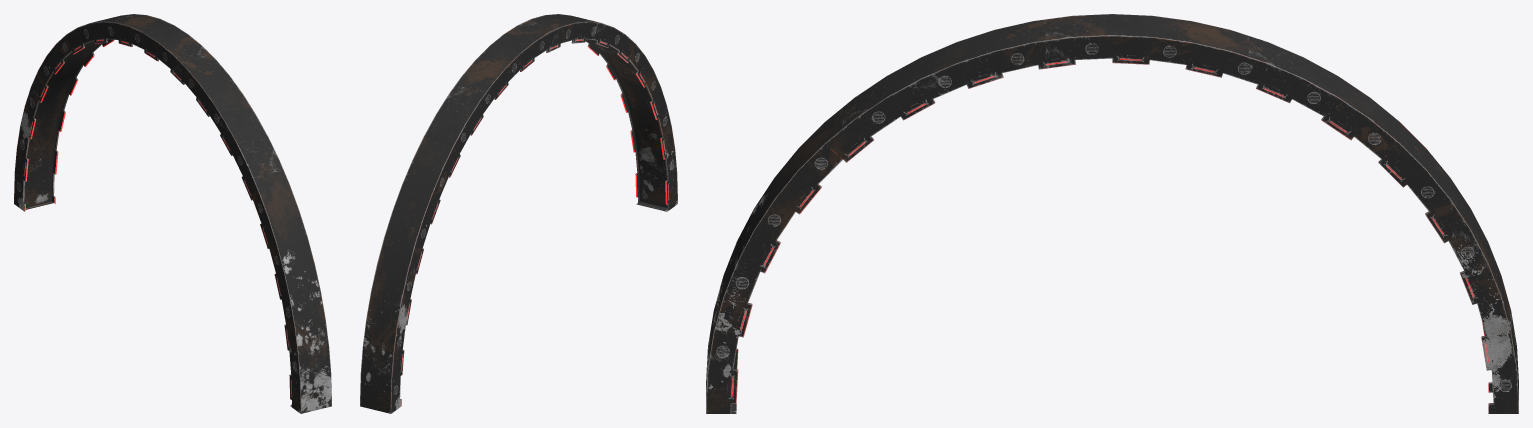
File: SM_TunnelF1.fbx
The picture shows the model from 3 angles, left to right: view 1: azimuth 30°, elevation 25°; view 2: azimuth 150°, elevation 25°; view 3: azimuth 270°, elevation 25°; orthographic projection. The views are drawn at different scales.
Visible parts, largest first — view 1: SM_TunnelF1_LOD0; view 2: SM_TunnelF1_LOD0; view 3: SM_TunnelF1_LOD0.
Part boxes in pixels (x1,y1,x2,y2): SM_TunnelF1_LOD0: (14, 14, 331, 413); SM_TunnelF1_LOD0: (360, 14, 677, 413); SM_TunnelF1_LOD0: (706, 14, 1518, 413).
Size of the model in its own units: 100 by 1600 by 822.
Materials: 1 (1 with a texture image).
